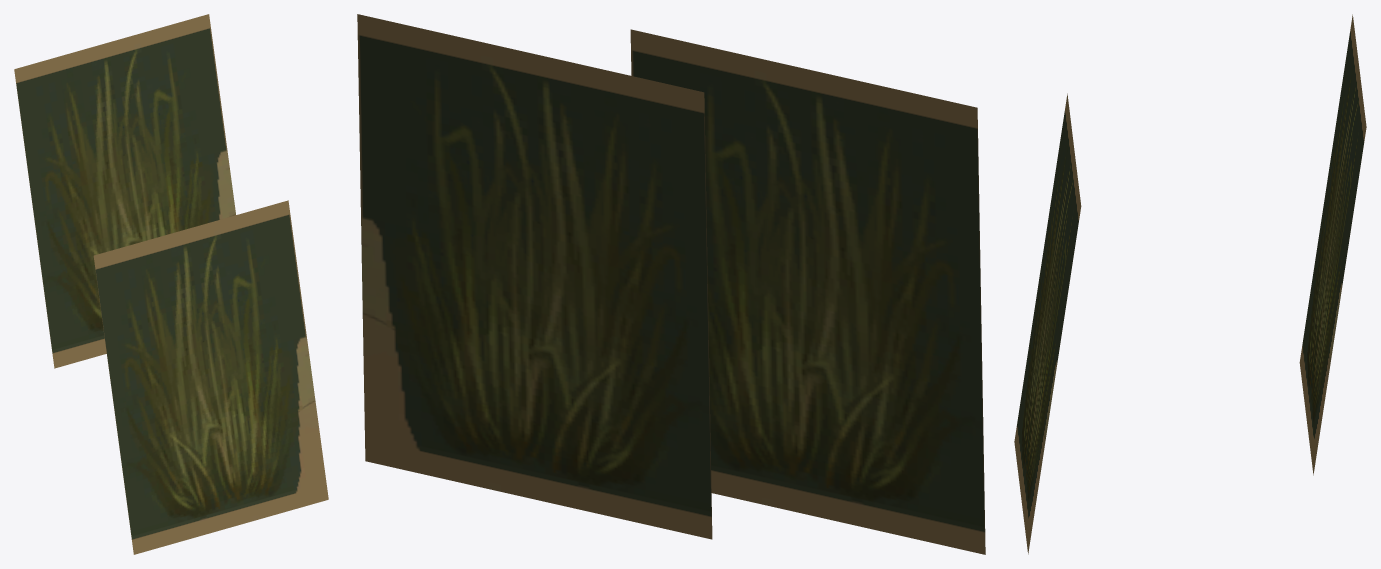
File: object_grass_polys06.fbx
3 views of the same model, side by side, from view 1: azimuth 30°, elevation 25°; view 2: azimuth 150°, elevation 25°; view 3: azimuth 270°, elevation 25° (orthographic). The views are drawn at different scales.
Parts seen in each view (by area): view 1: Material_#238683980/town_grass_mat; view 2: Material_#238683980/town_grass_mat; view 3: Material_#238683980/town_grass_mat.
Boxes of the visible parts, x1,y1,x2,y2 form: Material_#238683980/town_grass_mat: (14, 14, 328, 554); Material_#238683980/town_grass_mat: (357, 14, 985, 554); Material_#238683980/town_grass_mat: (1014, 14, 1366, 554).
Size of the model in its own units: 2.26 by 3.13 by 2.25.
